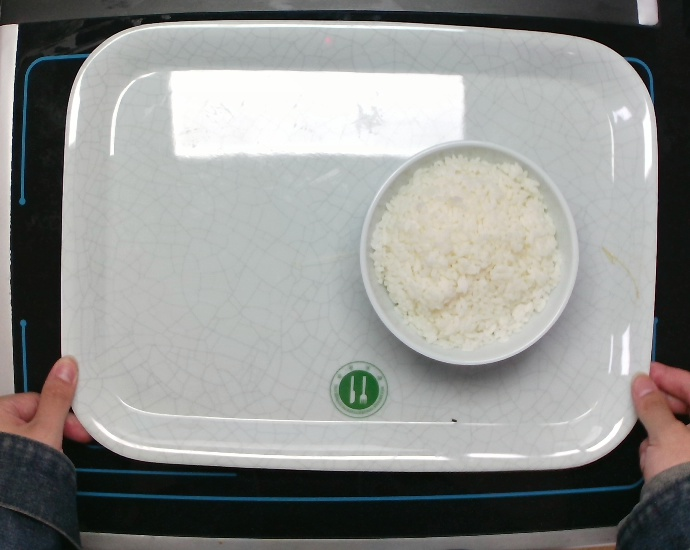JYsf-Fan_Wan: (357, 137, 580, 367)
